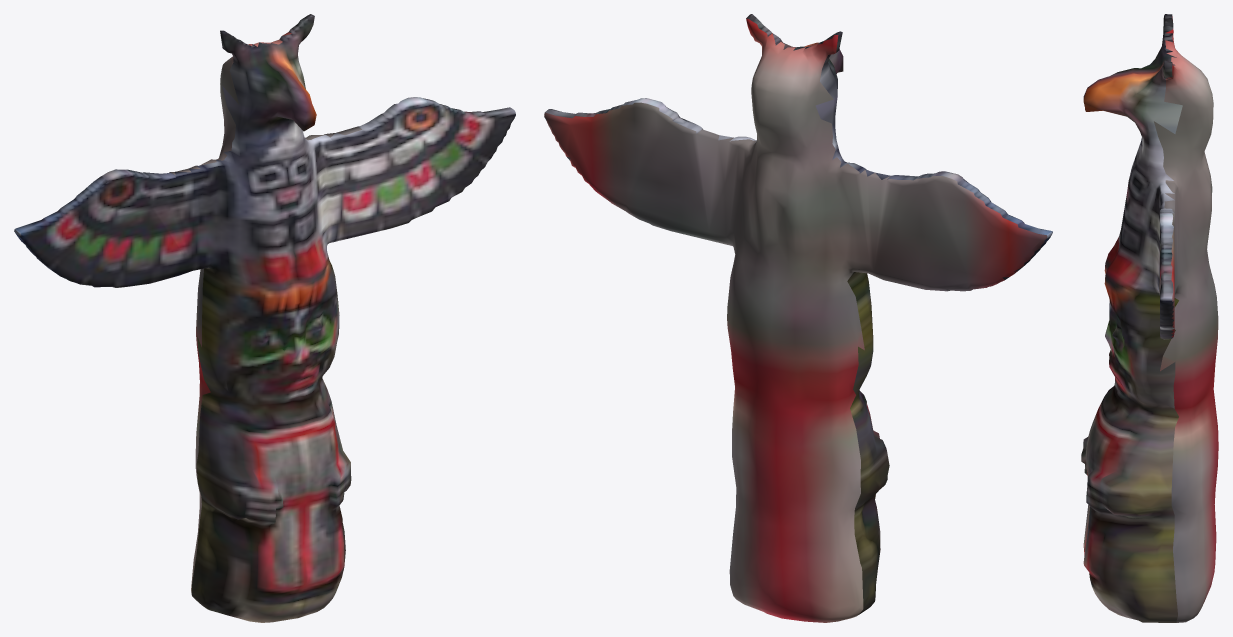
Rendered from totem copy 2.glb.
The picture shows the model from 3 angles, left to right: view 1: azimuth 30°, elevation 25°; view 2: azimuth 150°, elevation 25°; view 3: azimuth 270°, elevation 25°; orthographic projection. The views are drawn at different scales.
Parts seen in each view (by area): view 1: Totem_3; view 2: Totem_3; view 3: Totem_3.
Boxes of the visible parts, x1,y1,x2,y2 form: Totem_3: (14, 14, 515, 622); Totem_3: (544, 14, 1052, 622); Totem_3: (1081, 14, 1218, 622).
Size of the model in its own units: 3.84 by 4.27 by 0.9367.
Materials: 1 (1 with a texture image).
